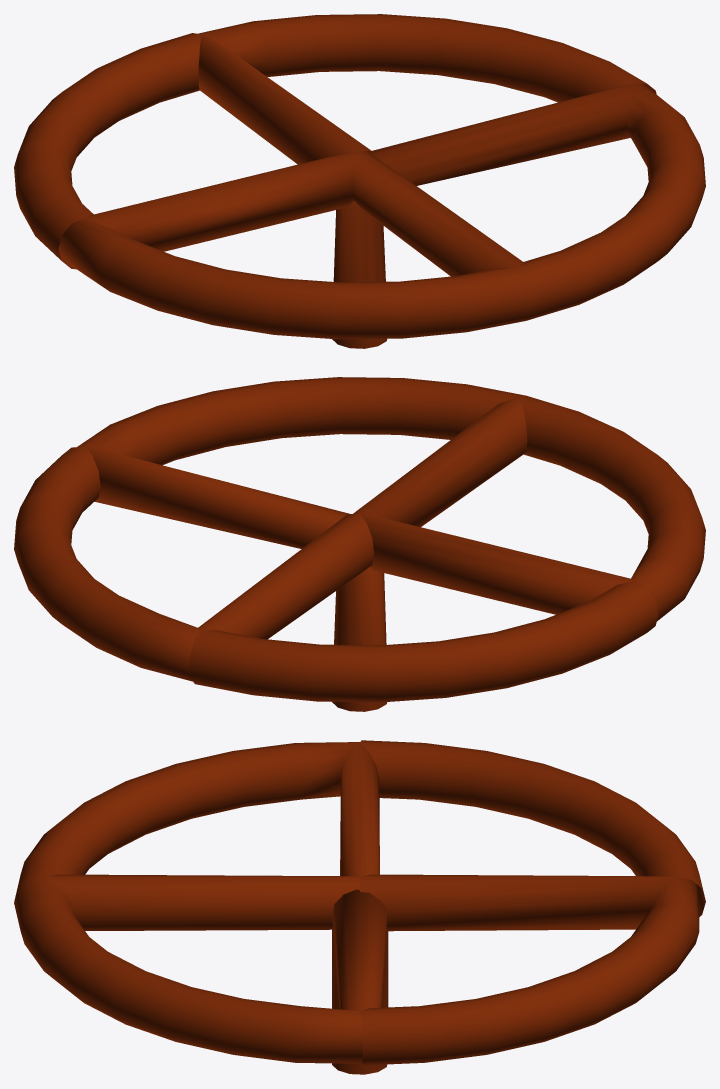
The model's file is pipe_interactable.fbx.
3 renders of one model, top to bottom at view 1: azimuth 30°, elevation 25°; view 2: azimuth 150°, elevation 25°; view 3: azimuth 270°, elevation 25°, orthographic.
Parts seen in each view (by area): view 1: Circle.001; view 2: Circle.001; view 3: Circle.001.
Part boxes in pixels (x1=…): Circle.001: x1=14, y1=14, x2=705, y2=348; Circle.001: x1=14, y1=377, x2=705, y2=711; Circle.001: x1=14, y1=740, x2=705, y2=1074.
Size of the model in its own units: 157 by 46.48 by 157.
